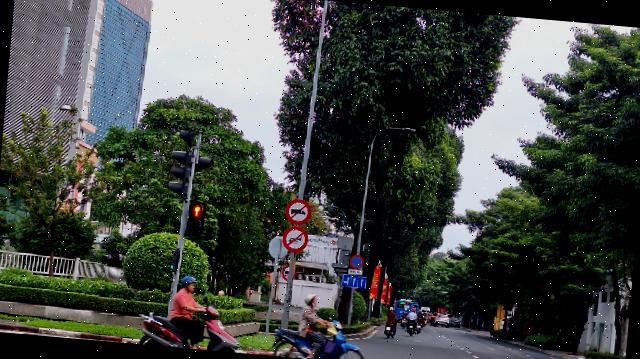cam-bop-coi: (282, 225, 310, 254)
cam-do-xe: (348, 254, 364, 270)
